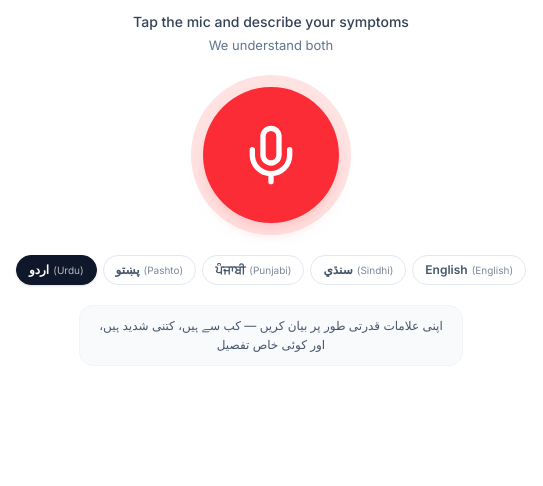
Test: <VoiceRecorder> › handles no microphone error
Step 1. Click the button named "Start recording" → [271, 155], box [191,75,351,235]
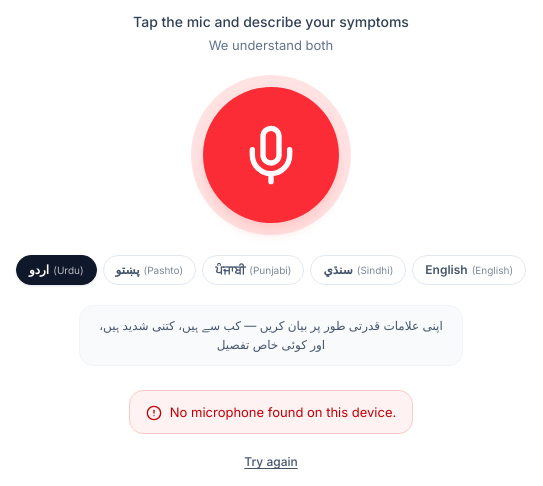
Expected: the text "No microphone found on this device." is shown, [170,403,396,421]
